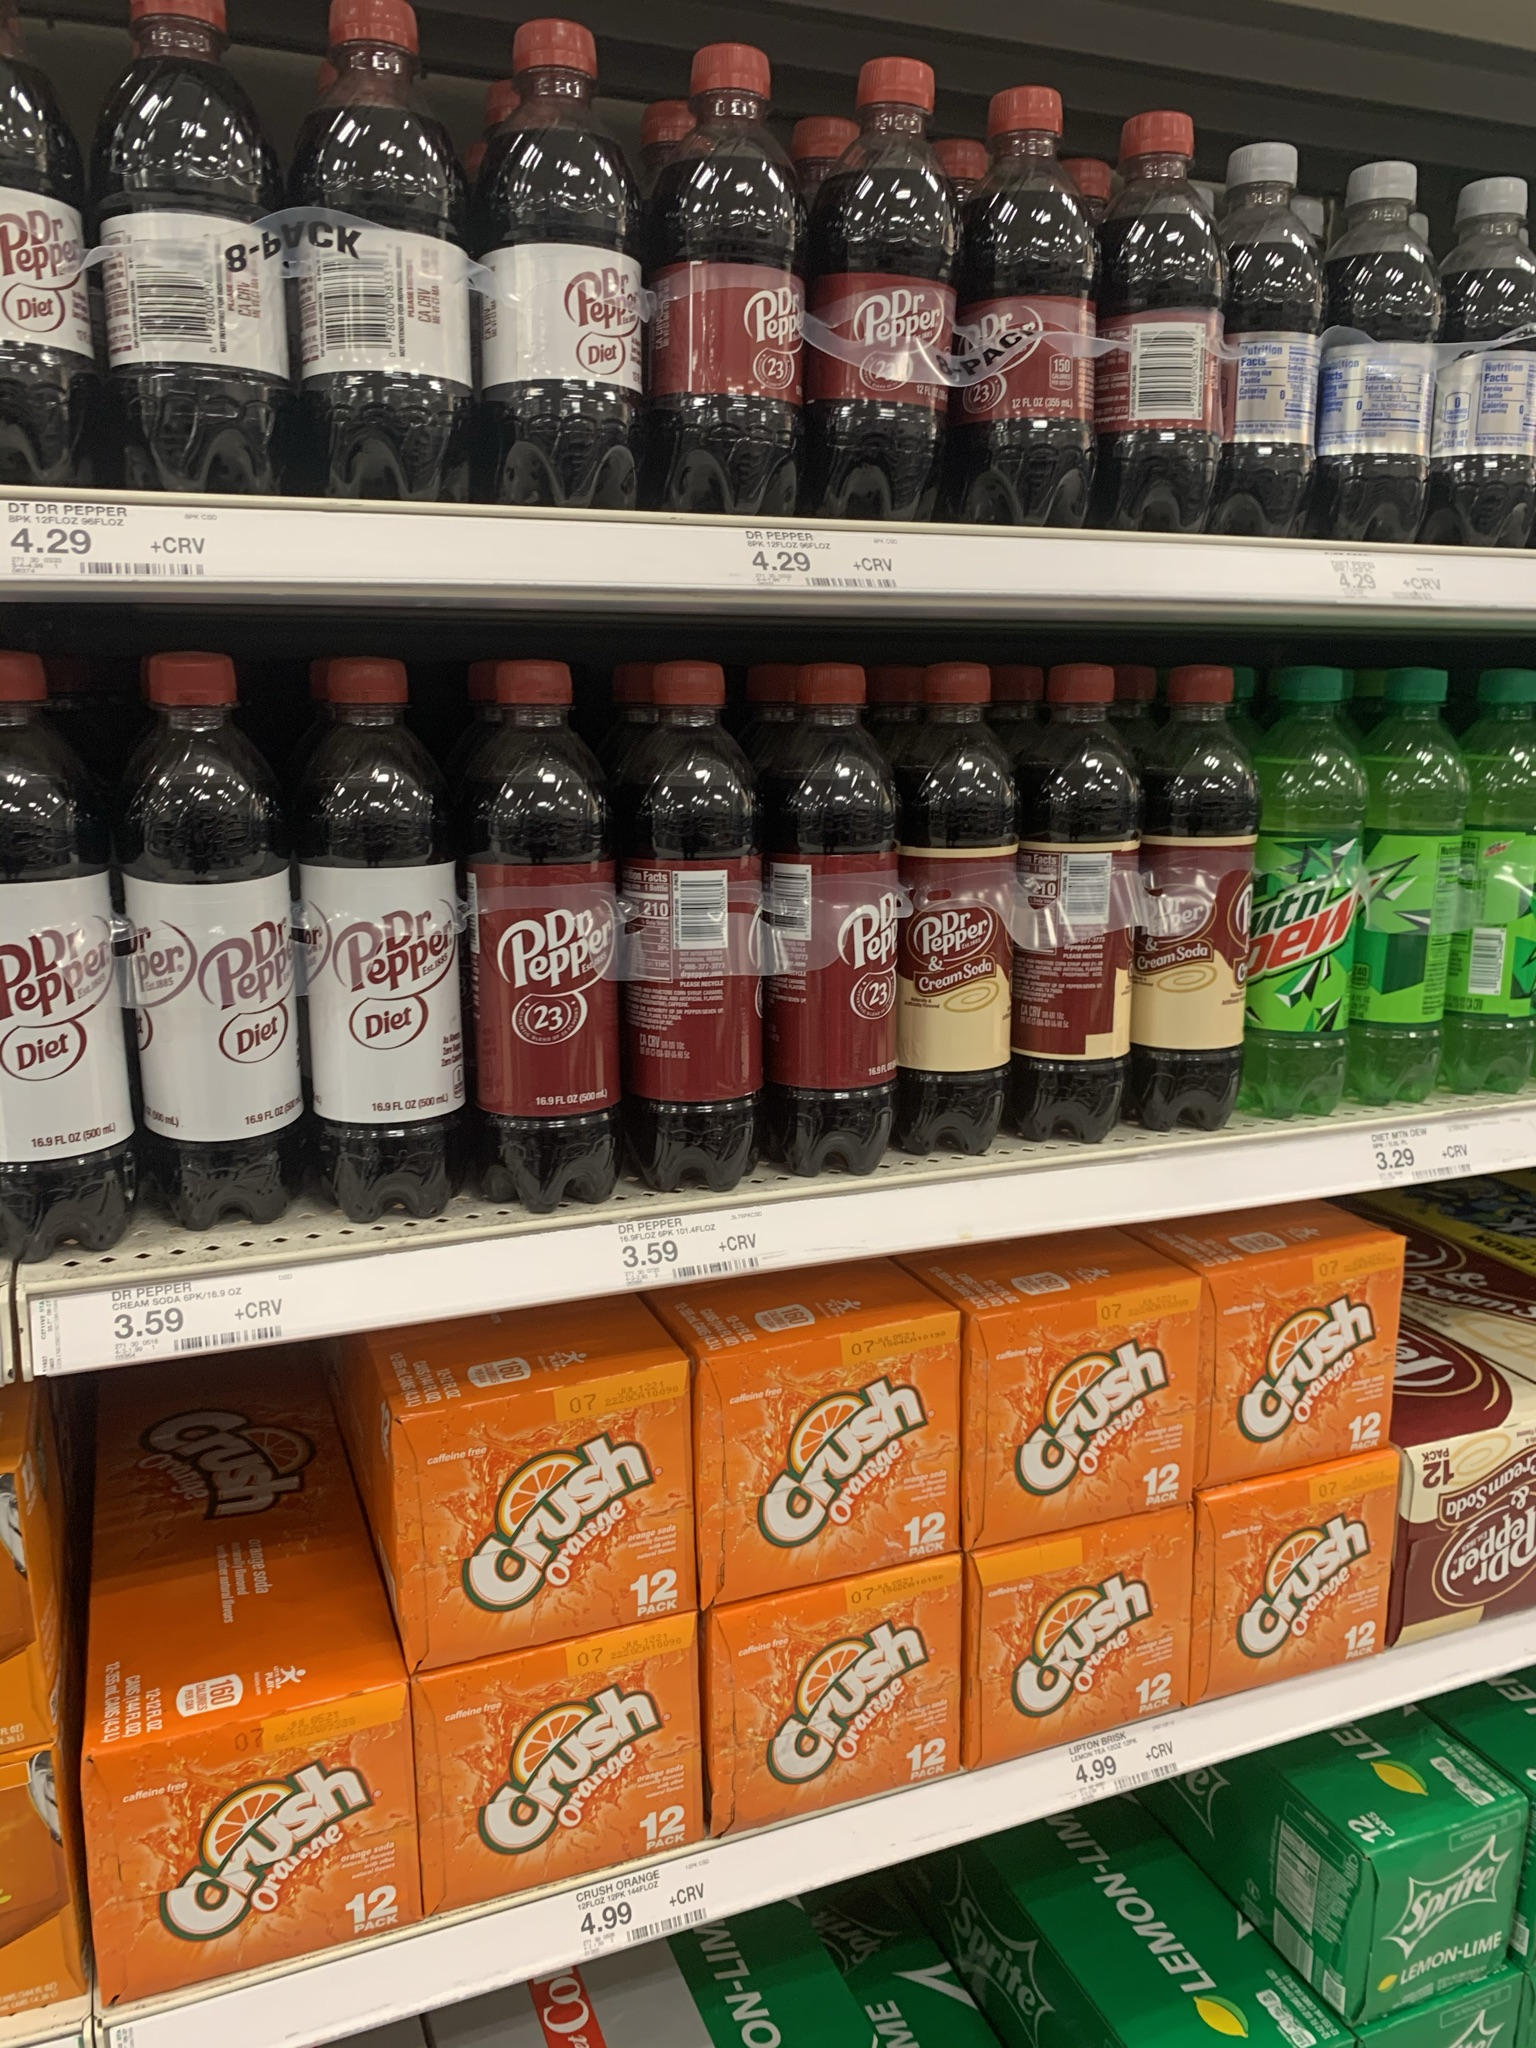crush soda: (77, 1488, 1452, 1738), (399, 1419, 684, 1621), (715, 1343, 957, 1546), (983, 1321, 1202, 1505), (1199, 1259, 1404, 1429)
dr pepper soda: (132, 640, 307, 1174), (479, 669, 628, 1216), (316, 15, 479, 505), (316, 664, 458, 1214), (2, 643, 132, 1214), (503, 24, 657, 489), (639, 655, 774, 1171), (837, 39, 958, 606), (894, 640, 1021, 1138), (1029, 614, 1152, 1126), (987, 94, 1113, 531), (684, 39, 803, 489), (1171, 631, 1267, 1155), (787, 684, 889, 1161), (123, 11, 232, 448), (1134, 94, 1226, 547), (1233, 119, 1320, 526), (1449, 148, 1533, 516), (1357, 147, 1430, 524)
mountain dew soda: (1292, 647, 1368, 1180), (1404, 647, 1463, 1129)
